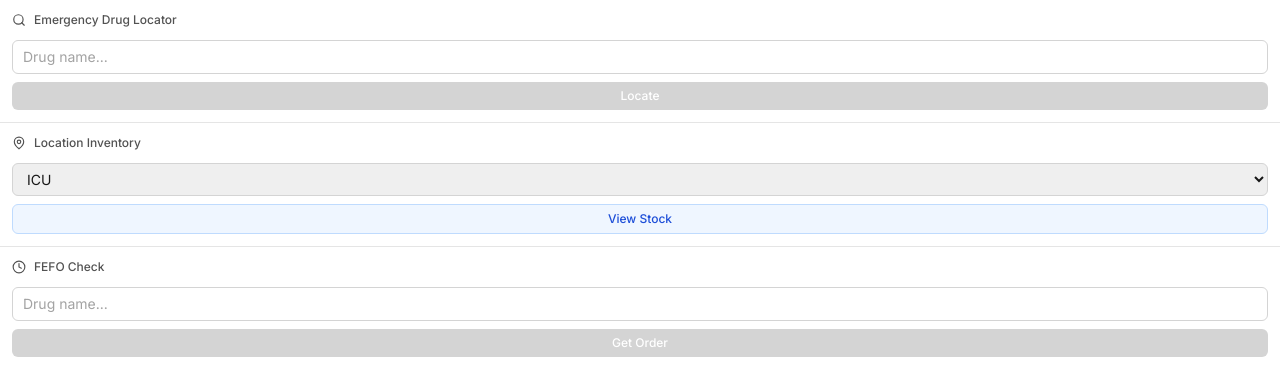
Test: NurseQuickActions › should enable Locate button when input has value
The image size is (1280, 374).
Type "Test" into the field with placeholder "Drug name..." below "Emergency Drug Locator".
click(640, 57); type("Test")  # box [12,40,1268,74]
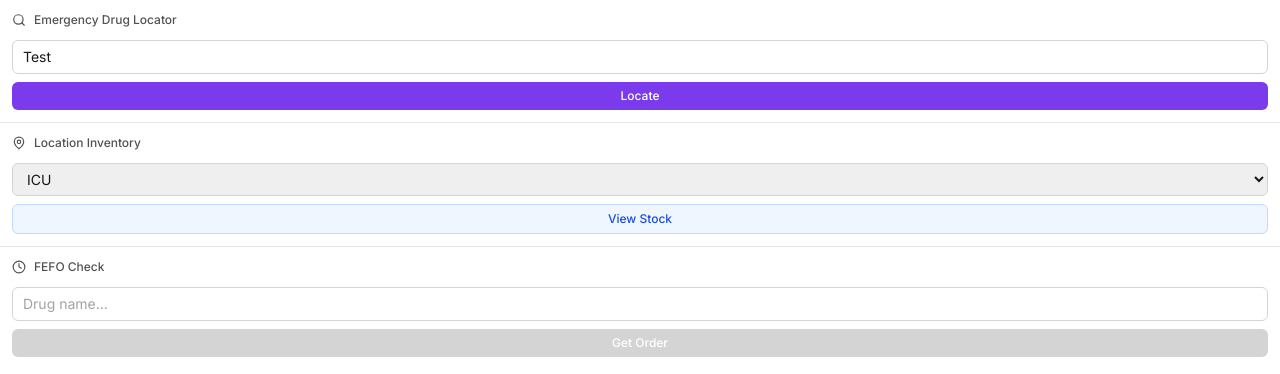
Expected: the button "Locate" is enabled, [12,82,1268,110]
